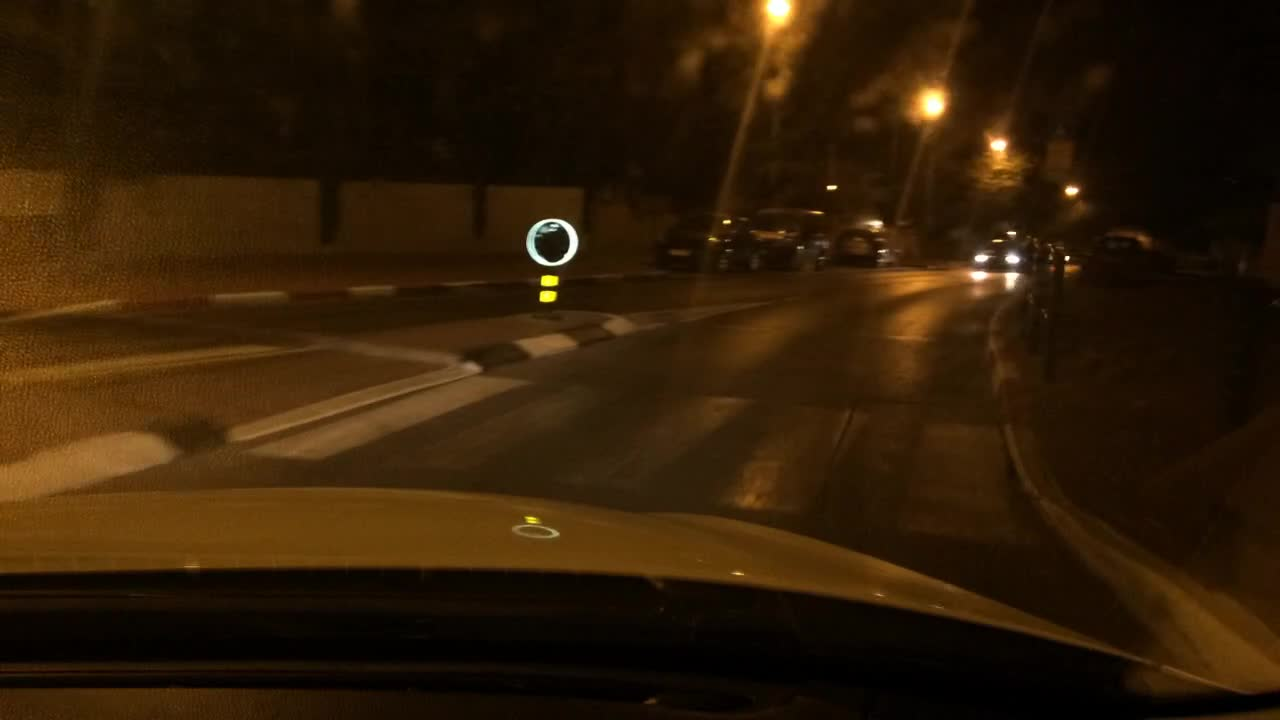car: (657, 208, 753, 277), (747, 204, 831, 270), (1082, 228, 1181, 283), (973, 231, 1041, 275), (1037, 241, 1056, 264), (1051, 243, 1070, 264)
motor: (715, 246, 766, 270)
rider: (733, 215, 749, 250)
traffic sign: (1045, 138, 1072, 169)
